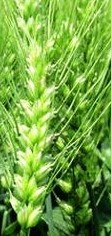Healthy Wheat: (12, 45, 64, 230)
